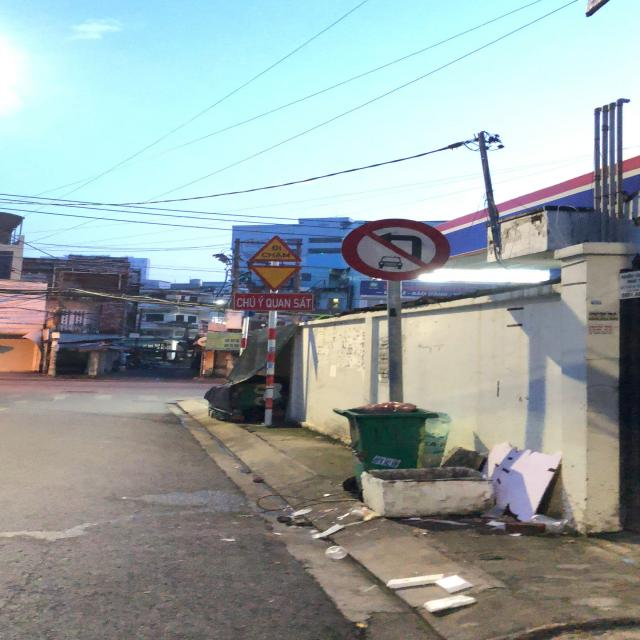Bien bao cam xe o to re trai: (341, 215, 456, 280)
Bien bao di cham: (244, 231, 305, 263)
Bien bao giao nhau voi duong uu tien: (242, 264, 299, 290)
